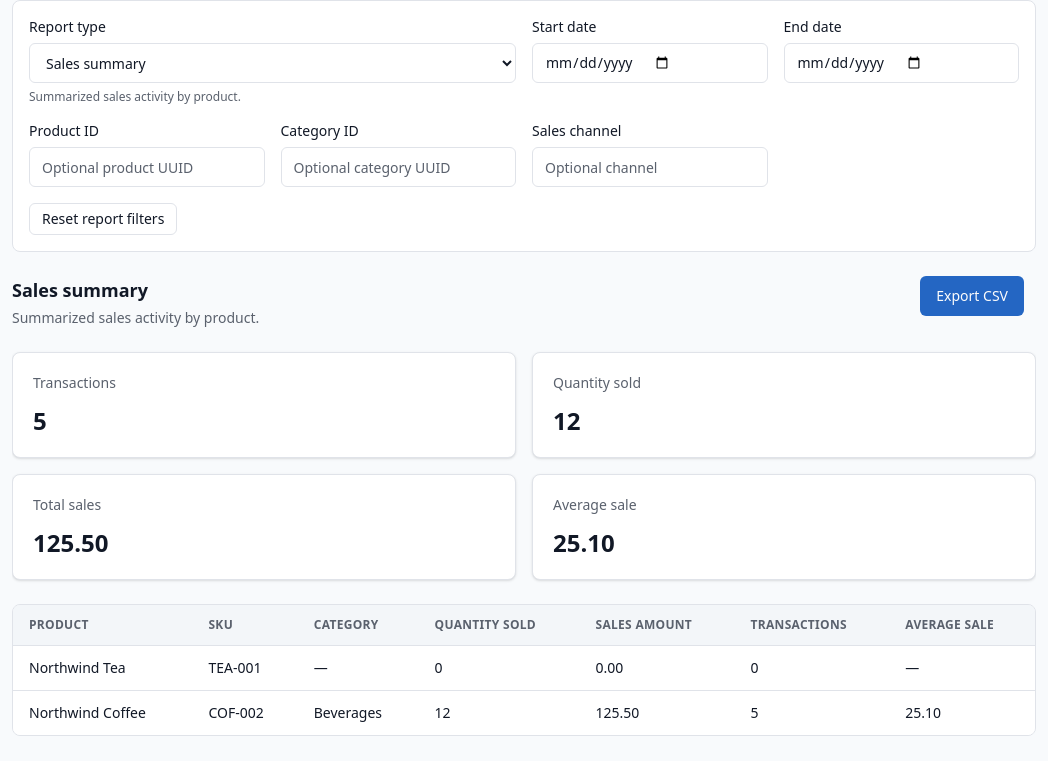
Test: ReportsView › presents a normalized CSV export failure without creating a download
This screenshot has width=1048, height=761.
Expected: the table named "Sales summary" is shown, [13,605,1035,735]
Click the button "Export CSV" at (972, 296), box [920,276,1024,316]
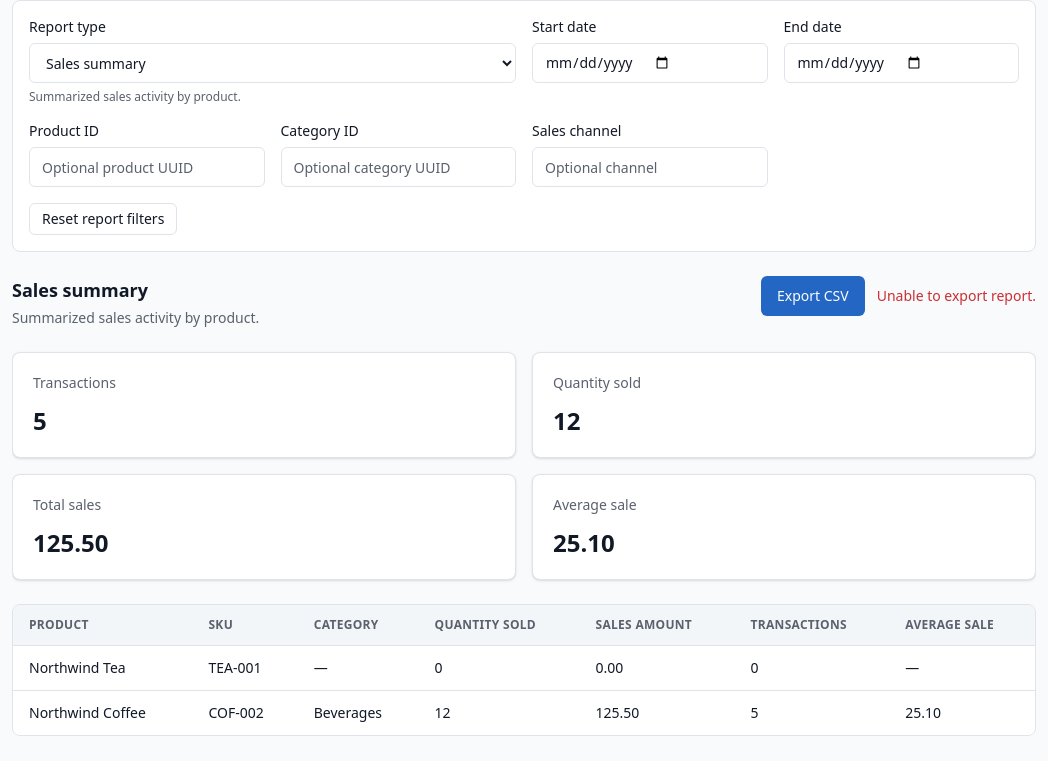
Now the text "Unable to export report." is shown, box [877,286,1036,305]
